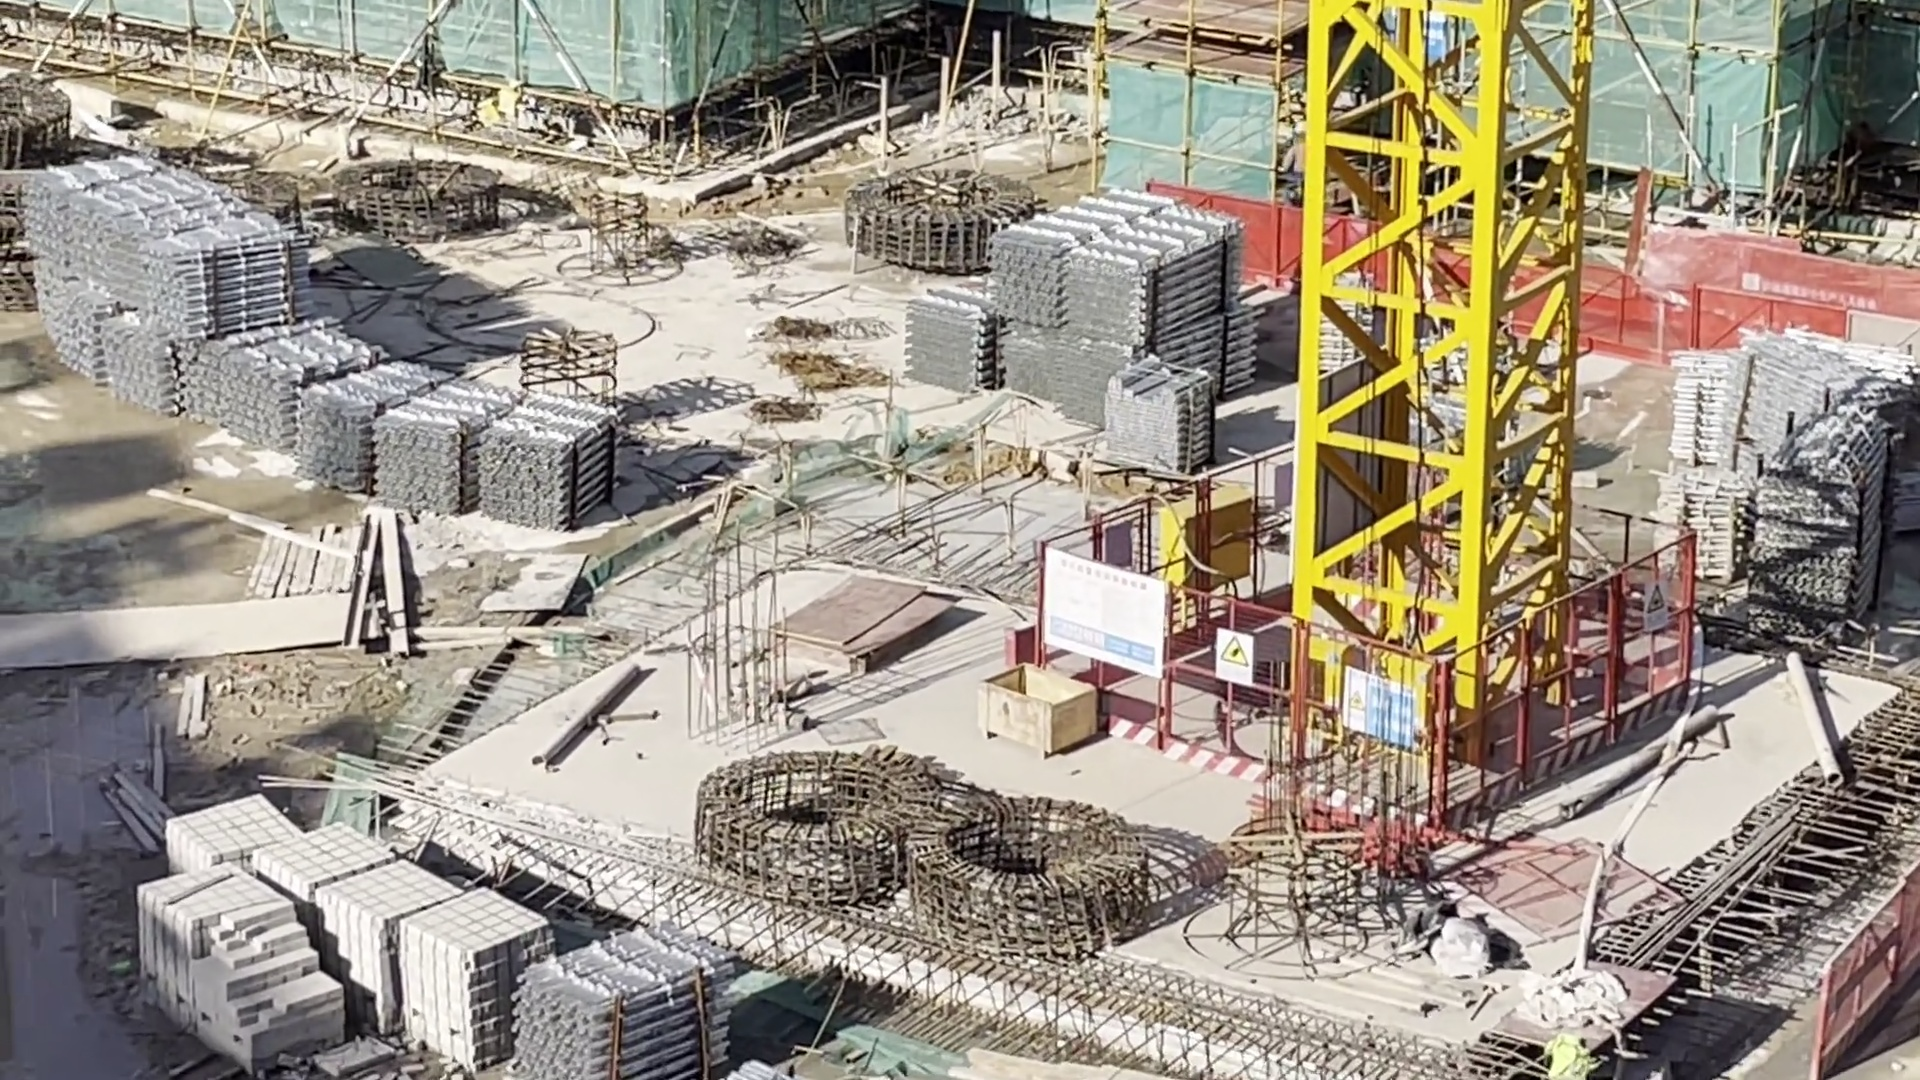board: (777, 578, 942, 665)
brick: (142, 815, 527, 1058)
ebox: (1163, 491, 1250, 601)
fence: (1588, 249, 1920, 352), (1825, 862, 1920, 1068)
scaffold: (28, 161, 309, 414), (992, 191, 1255, 415), (1669, 351, 1888, 616), (377, 378, 618, 534), (521, 930, 733, 1080), (301, 357, 446, 491), (220, 334, 382, 446), (1104, 357, 1216, 469), (909, 266, 997, 389)
slogan: (1342, 670, 1416, 746), (1213, 624, 1251, 683), (1643, 583, 1667, 632)
